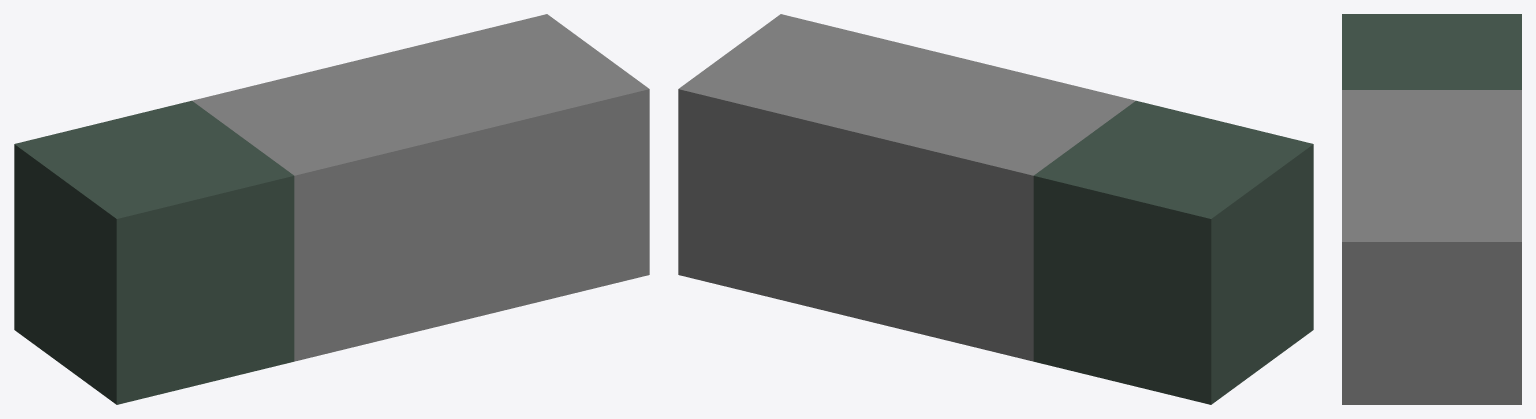
Rendered from GunBullet.obj.
3 views of the same model, side by side, from view 1: azimuth 30°, elevation 25°; view 2: azimuth 150°, elevation 25°; view 3: azimuth 270°, elevation 25° (orthographic). The views are drawn at different scales.
Size of the model in its own units: 3 by 1 by 1.
Materials: 1 (1 with a texture image).
